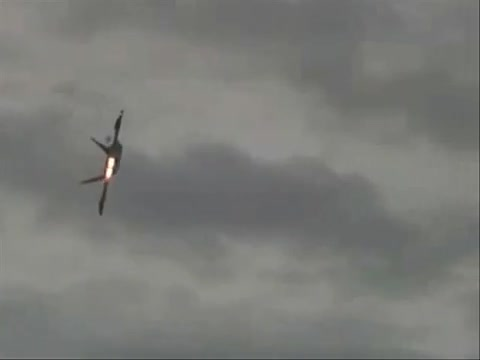aeroplane: (82, 111, 125, 216)
